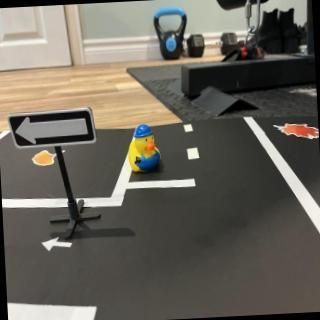duck_specialty: (128, 125, 162, 174)
road_oneway: (40, 234, 77, 256)
sign_oneway_left: (9, 108, 98, 152)
